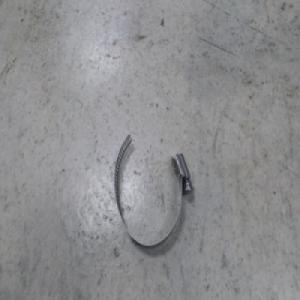AdjustableClamp: (114, 132, 192, 247)
